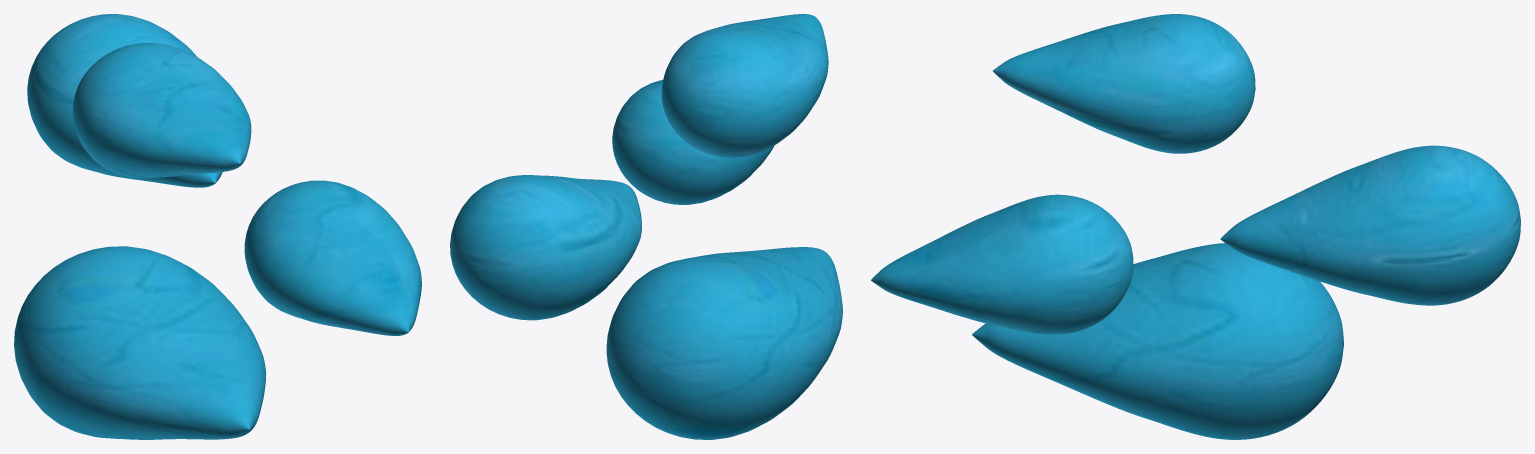
Rendered from bala_escopeta.obj.
3 renders of one model, left to right at view 1: azimuth 30°, elevation 25°; view 2: azimuth 150°, elevation 25°; view 3: azimuth 270°, elevation 25°, orthographic. The views are drawn at different scales.
Visible parts, largest first — view 1: polySurface1; view 2: polySurface1; view 3: polySurface1.
Boxes of the visible parts, bbox=[...] form: polySurface1: bbox=[14, 14, 421, 439]; polySurface1: bbox=[450, 14, 842, 439]; polySurface1: bbox=[871, 14, 1520, 439].
Bounding box in the file's own units: 0.3015 × 0.4059 × 0.5903.
1 material, 1 textured.
